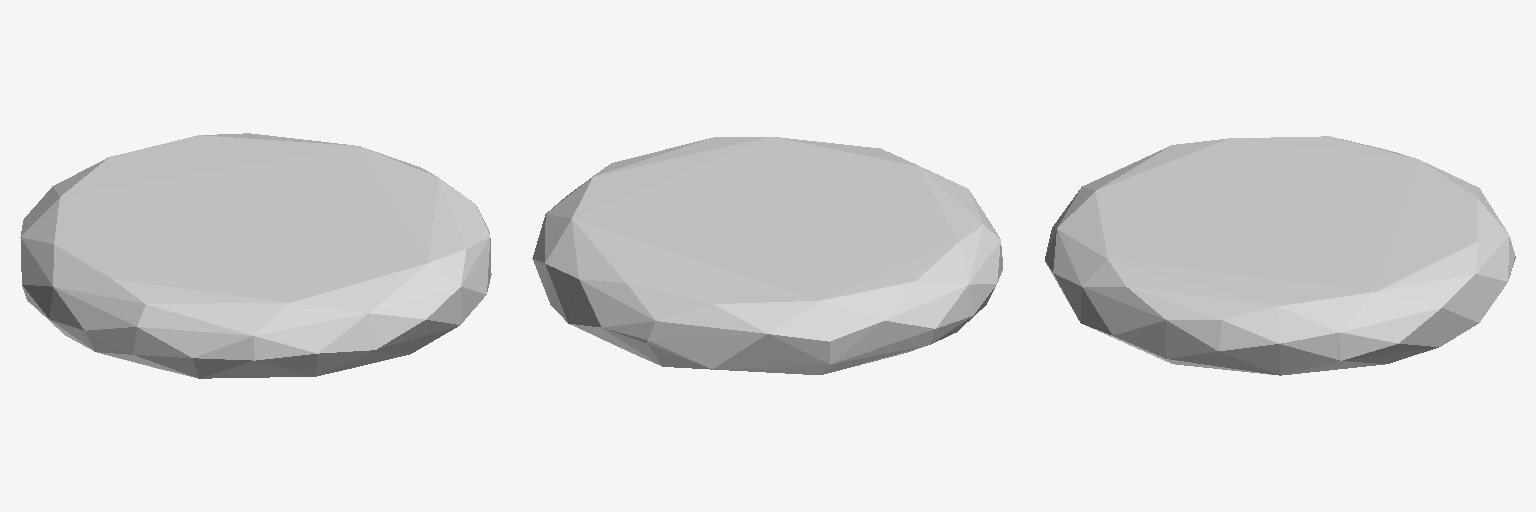
The robot description file, URDF, robot "pancake.urdf":
<?xml version="0.0" ?>
<robot name="pancake.urdf">
<!--  <link name="base" />-->
  <link name="pancake">
    <visual>
      <origin rpy="0 0 0" xyz="0 0 0"/>
      <geometry>
<!--        <mesh filename="pie.obj" scale="1 1 2"/>-->
        <mesh filename="pancake_v.obj" scale="0.001 0.001 0.001"/>
      </geometry>
      <material name="grey">
        <color rgba="0.85 0.85 0.85 1.0"/>
      </material>
    </visual>
    <inertial>
      <origin rpy="0 0 0" xyz="0 0 0"/>
      <mass value="0.01"/>
<!--      <inertia ixx="0.00009" ixy="0" ixz="0" iyy="0.00009" iyz="0" izz="0.00018"/>-->
      <inertia ixx="0.000001" ixy="0" ixz="0" iyy="0.000001" iyz="0" izz="0.000001"/>
<!--      <inertia ixx="1" ixy="0" ixz="0" iyy="1" iyz="0" izz="1"/>-->
    </inertial>
    <collision>
      <origin rpy="0 0 0" xyz="0 0 0"/>
      <geometry>
<!--  	    <mesh filename="pie.obj" scale="1 1 2"/>-->
  	    <mesh filename="pancake_v.obj" scale="0.001 0.001 0.001"/>
      </geometry>
    </collision>
  </link>
<!--      <joint name="pancake_joint" type="fixed">-->
<!--        <origin xyz="0 0 0" rpy="0 0 0" />-->
<!--        <parent link="base" />-->
<!--        <child link="pancake" />-->
<!--    </joint>-->
</robot>

--- What the picture shows (computed from the rendered views, not written in the file) ---
Views: 3 orthographic renders of the robot side by side, from view 1: azimuth 30°, elevation 25°; view 2: azimuth 150°, elevation 25°; view 3: azimuth 270°, elevation 25°.
Robot: pancake.urdf — 1 links, 0 joints (none); root link pancake; default pose: all joints at 0.
Visible links, largest first — view 1: pancake; view 2: pancake; view 3: pancake.
Boxes of the visible links, x1,y1,x2,y2 form: pancake: (20, 133, 491, 378); pancake: (532, 137, 1002, 374); pancake: (1045, 136, 1515, 375).
Bounding box of the posed robot: 0.1197 × 0.1203 × 0.0203 m (x, y, z).
Meshes: 1 distinct files referenced, 1 mesh visuals loaded (1 OBJ).
